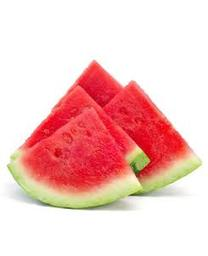watermelon: (9, 60, 201, 206)
